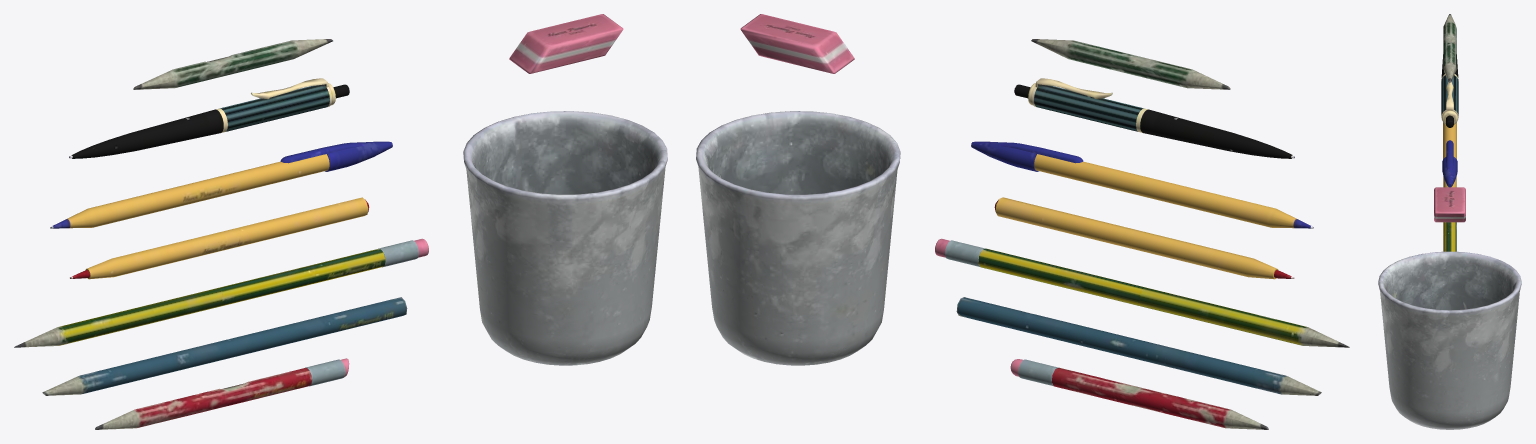
The model's file is stationery_supplies.glb.
3 views of the same model, side by side, from view 1: azimuth 30°, elevation 25°; view 2: azimuth 150°, elevation 25°; view 3: azimuth 270°, elevation 25° (orthographic). The views are drawn at different scales.
Visible parts, largest first — view 1: stationery_supplies_pen_red; view 2: stationery_supplies_pen_red; view 3: stationery_supplies_pen_red.
Boxes of the visible parts, bbox=[...] form: stationery_supplies_pen_red: bbox=[14, 14, 667, 429]; stationery_supplies_pen_red: bbox=[696, 14, 1349, 429]; stationery_supplies_pen_red: bbox=[1378, 14, 1521, 429].
Size of the model in its own units: 0.3019 by 0.1644 by 0.0837.
Materials: 1 (1 with a texture image).
